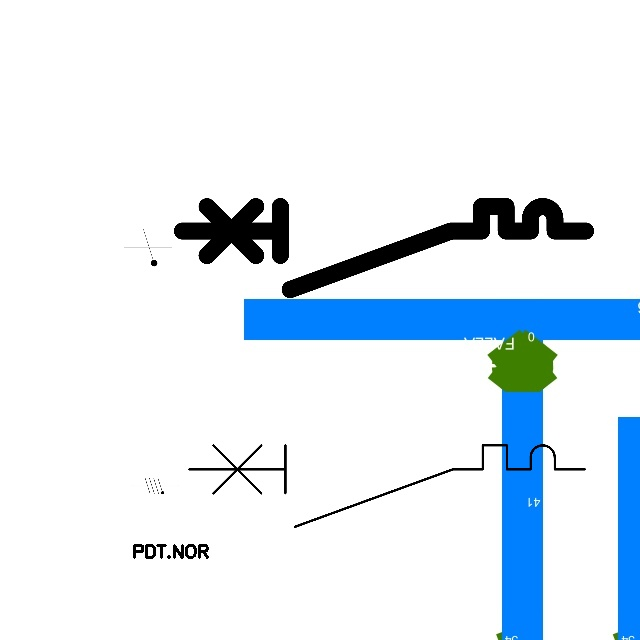interruptor_termomagnetico: (172, 196, 596, 300), (179, 435, 595, 536)
